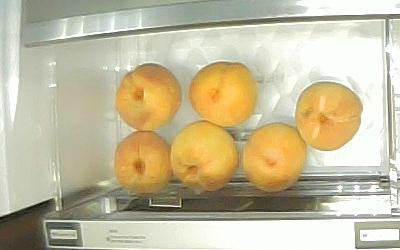peach: (170, 120, 239, 193), (295, 81, 363, 151), (188, 61, 257, 127), (116, 63, 181, 131), (242, 122, 306, 191), (112, 131, 171, 195)
